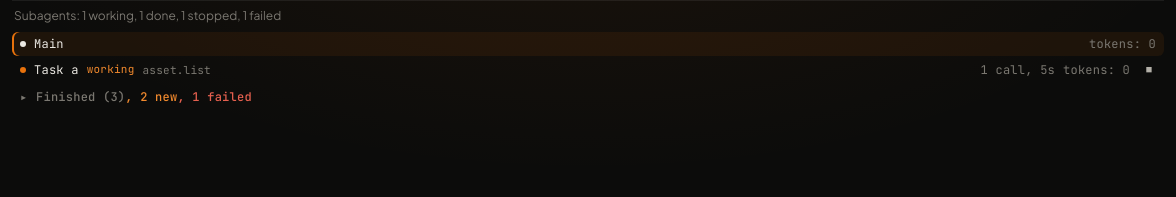
Test: the thread list › shows running subagents with what they are doing, and hides finished ones until asked
The width and height of the screenshot is (1176, 197).
Expected: the text "Subagents: 1 working, 1 done, 1 stopped, 1 failed" is shown, [14,8,281,23]
Expected: the text "Task a" is shown, [34,61,79,79]
Click the button "▸ Finished (3), 2 new, 1 failed".
click(73, 97)  # box [12,86,1164,108]
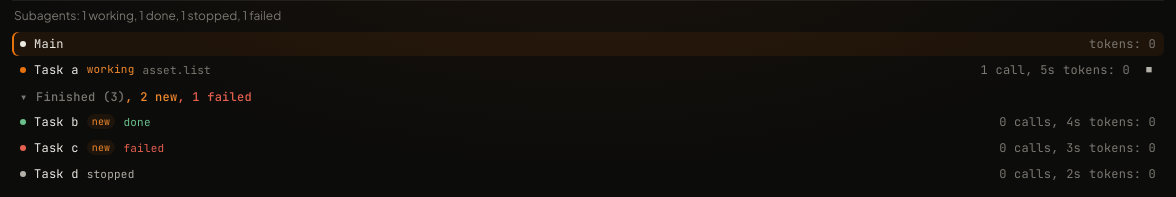
Expected: the text "Task b" is shown, [34,113,79,131]
Expected: the text "new" is shown 2 times, [87,114,115,130]; [87,140,115,156]
